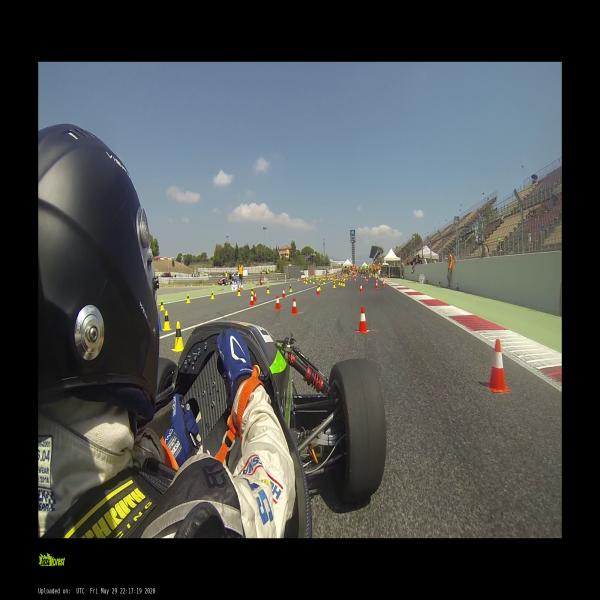orange_cone: (485, 339, 510, 393), (356, 307, 369, 334), (290, 298, 298, 314), (274, 295, 282, 310), (249, 295, 255, 306), (253, 291, 257, 301), (316, 286, 320, 295), (282, 289, 286, 298), (359, 284, 363, 292), (382, 280, 385, 287), (375, 282, 378, 289), (375, 279, 378, 284), (366, 278, 368, 284), (354, 278, 356, 282)
yellow_cone: (172, 321, 183, 350), (162, 310, 171, 331), (186, 293, 191, 303), (160, 299, 164, 311), (210, 290, 215, 299), (236, 288, 241, 296), (266, 285, 270, 294), (288, 284, 292, 292), (250, 287, 254, 295), (333, 282, 336, 288), (340, 280, 343, 285), (312, 279, 315, 284), (343, 280, 345, 286), (338, 279, 340, 285), (323, 279, 325, 284), (306, 279, 308, 284), (319, 284, 320, 290), (310, 277, 311, 282)
